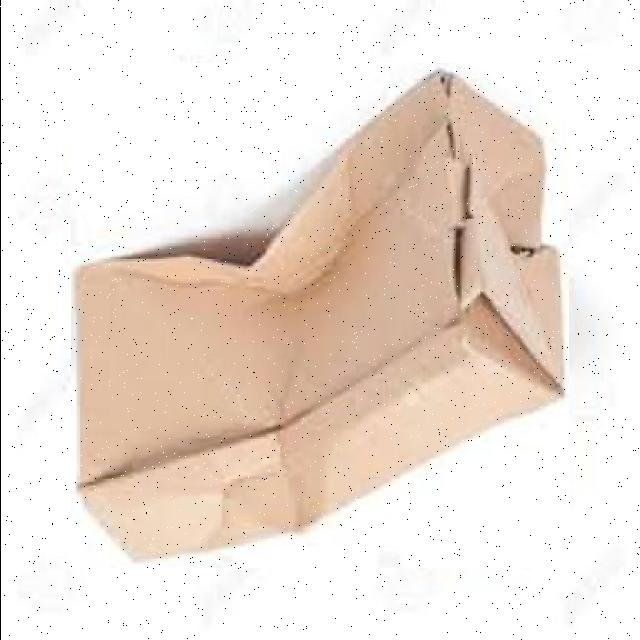defect: (70, 63, 568, 568)
